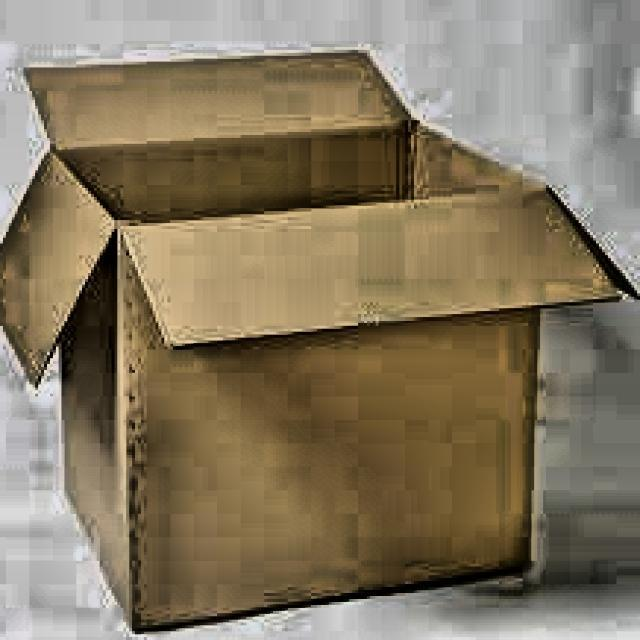cardboard: (0, 47, 640, 631)
